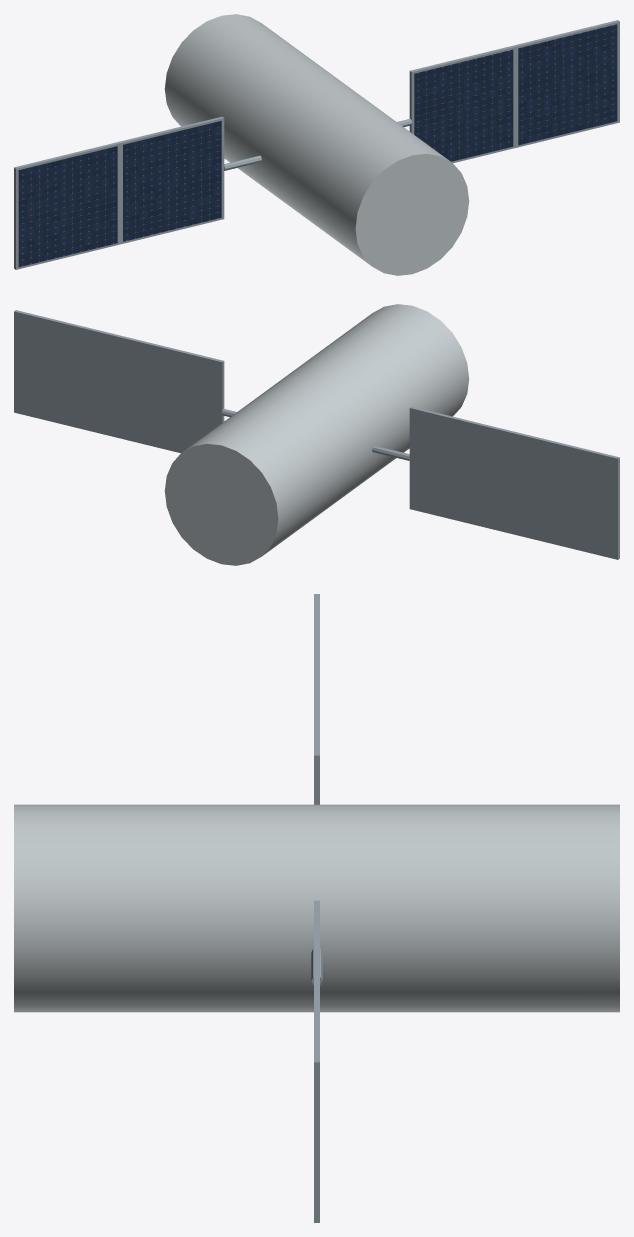
File: ref-shenzhou-25956.glb
3 renders of one model, top to bottom at view 1: azimuth 30°, elevation 25°; view 2: azimuth 150°, elevation 25°; view 3: azimuth 270°, elevation 25°, orthographic. The views are drawn at different scales.
Visible parts, largest first — view 1: Spacecraft body, Photovoltaic laminates (×4), Array frame (×4); view 2: Array frame (×4), Spacecraft body; view 3: Spacecraft body, Array frame.
Part boxes in pixels (<box>): Spacecraft body: <box>164,14,469,275</box>; Photovoltaic laminates (×4): <box>18,24,617,267</box>; Array frame (×4): <box>14,20,619,269</box>; Array frame (×4): <box>14,310,619,559</box>; Spacecraft body: <box>164,304,469,565</box>; Spacecraft body: <box>14,804,619,1012</box>; Array frame: <box>314,981,319,1222</box>.
Bounding box in the file's own units: 17 × 3.2 × 9.3.
Materials: 3 (1 with a texture image).
